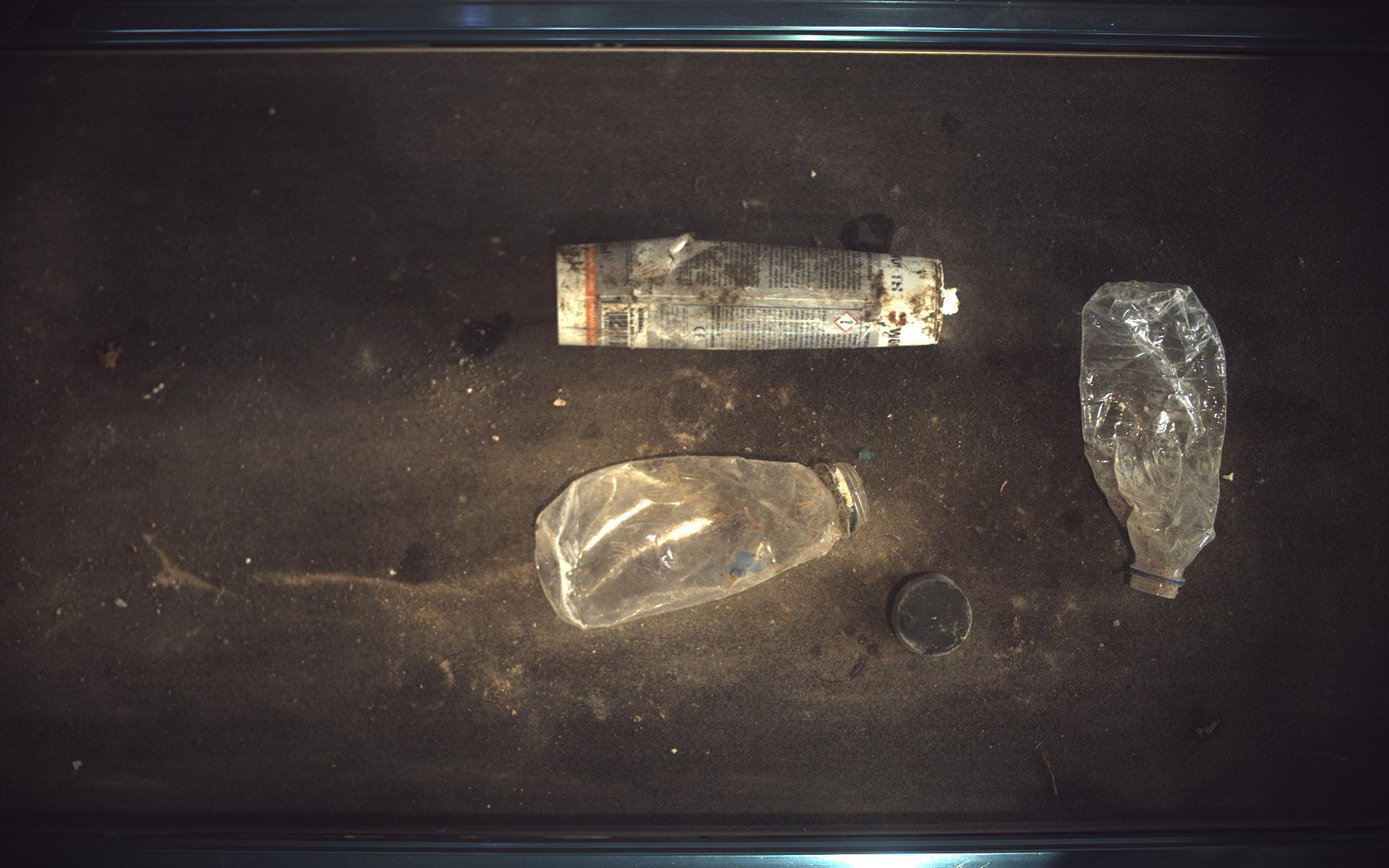general_w: (535, 456, 870, 629), (1082, 281, 1229, 599), (893, 574, 974, 656)
plastic: (558, 233, 960, 349)
